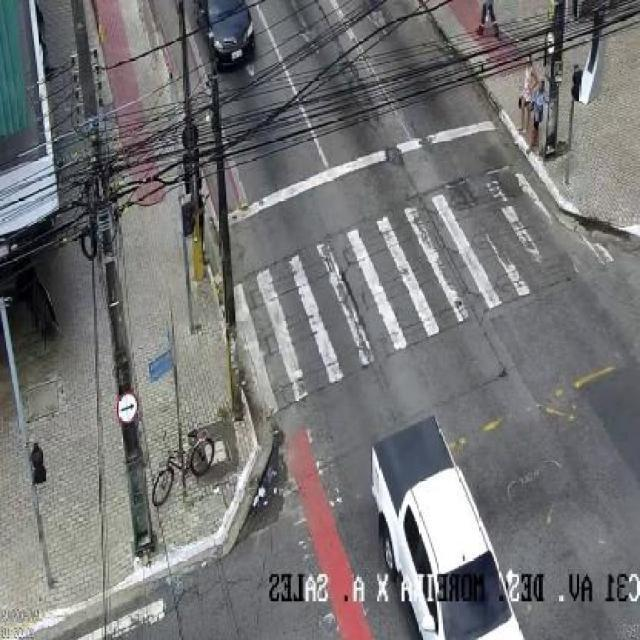Car: (194, 0, 260, 68)
Cycle: (152, 427, 218, 510)
Truck: (372, 417, 534, 640)
